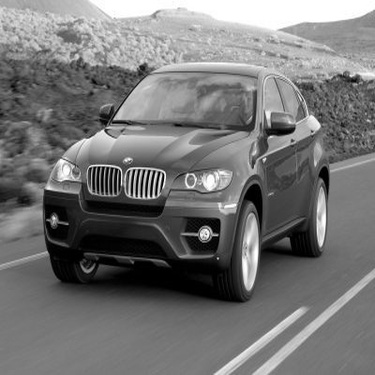car: (34, 57, 334, 304)
